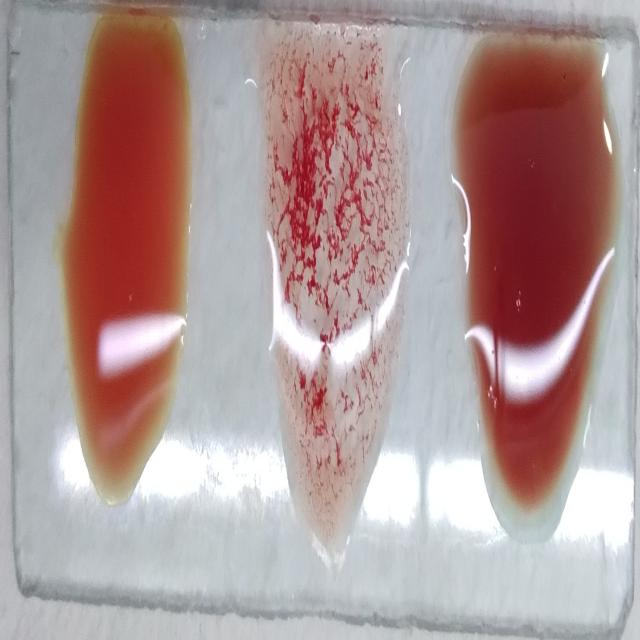D: (268, 32, 406, 560)
